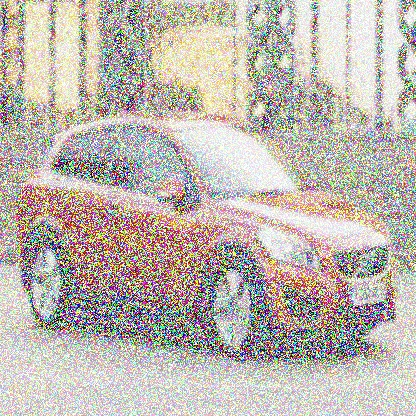Vehicle: (15, 109, 400, 356)
